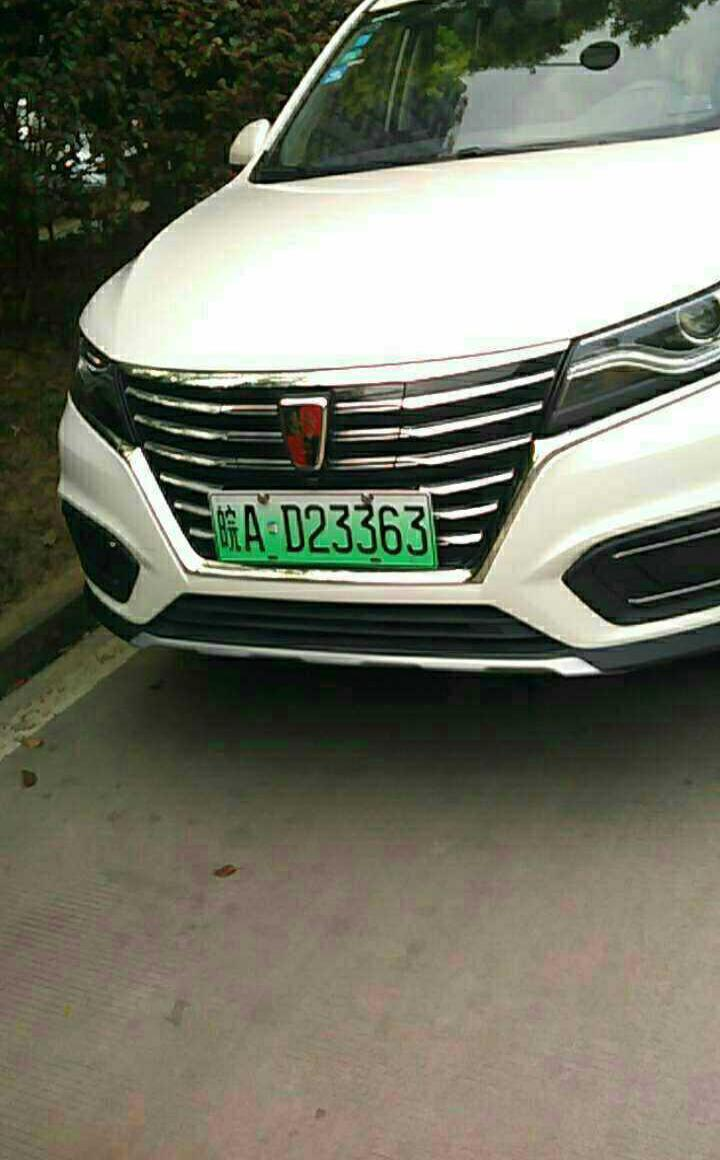car_green: (205, 489, 449, 580)
